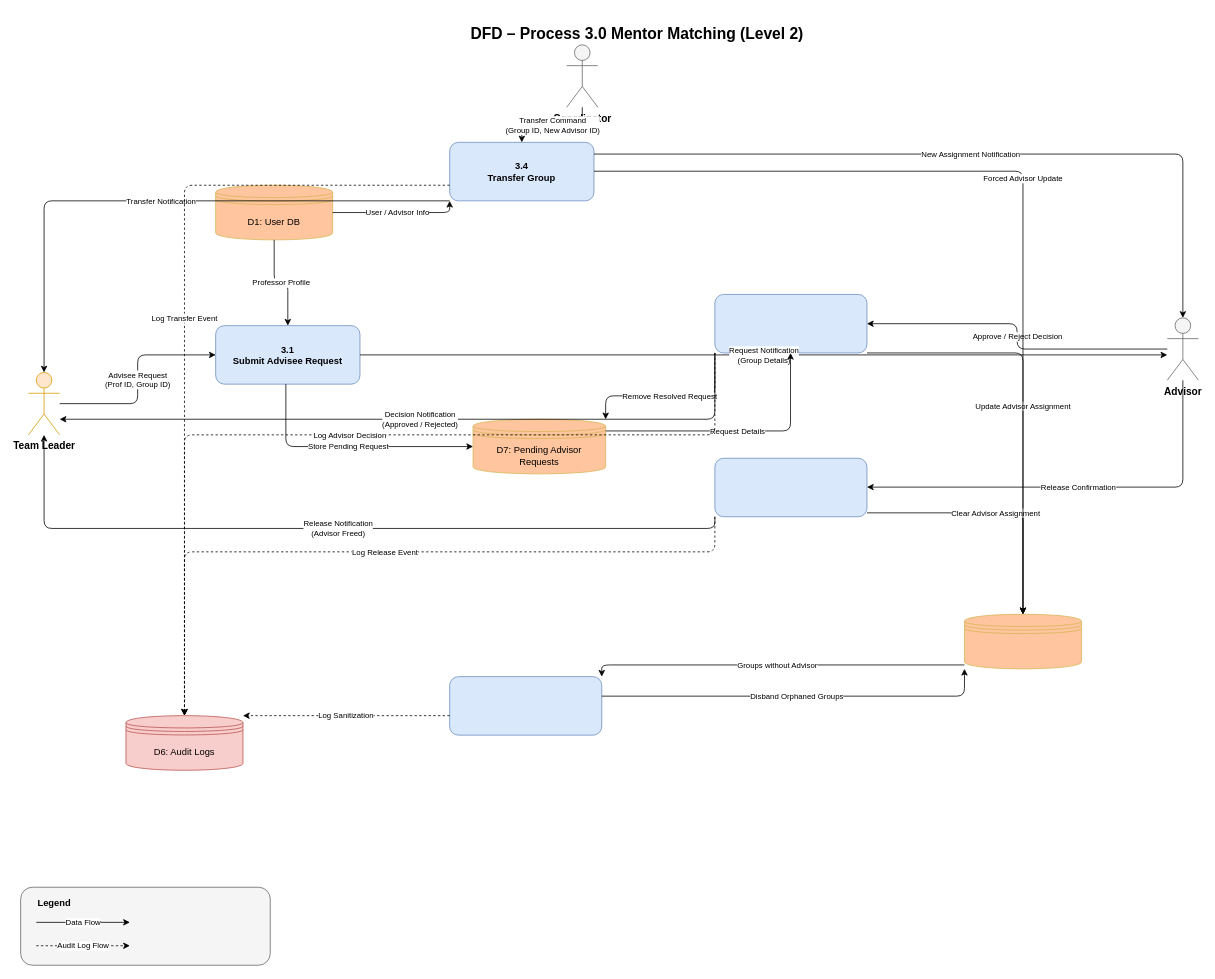
The diagram is 1215 pixels wide and 979 high, and some of its shapes have lost their labels. The centre of each missing label's shape, as x and y in pixels:
"3.2 Process Advisor Decision" belongs at point (790, 323).
"3.3 Release Advisor Assignment" belongs at point (790, 487).
"3.5 Sanitize Orphaned Groups" belongs at point (525, 705).
"D2: Group DB" belongs at point (1022, 641).
